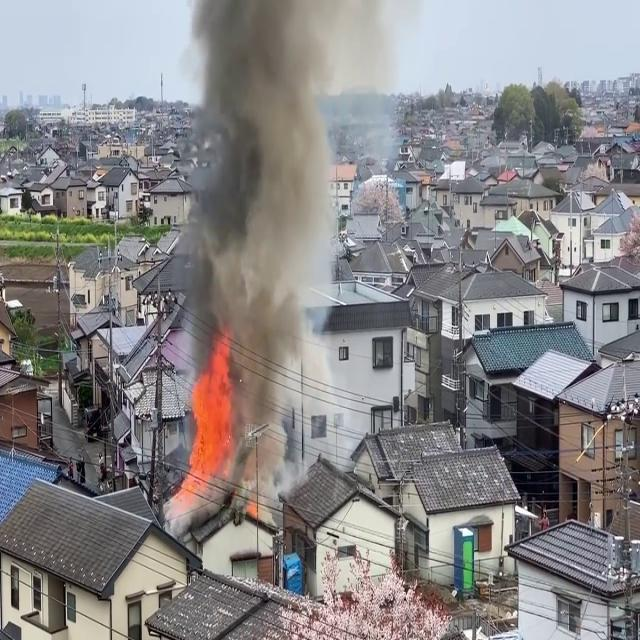Fire: (174, 336, 238, 504)
Smoke: (165, 0, 342, 493)
